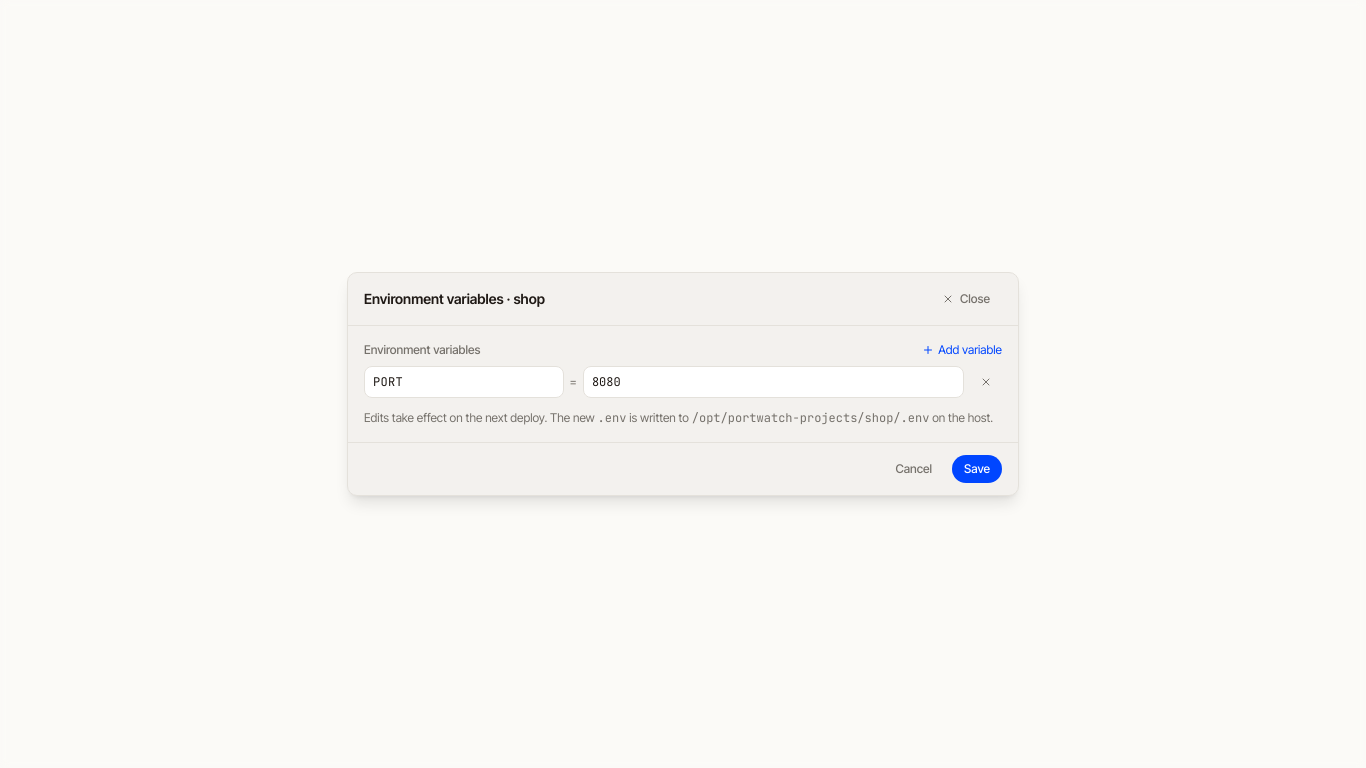
Test: EditEnvModal › locks the form while saving
Step 1. Click the button "Save" → (977, 469), box [952,455,1002,483]
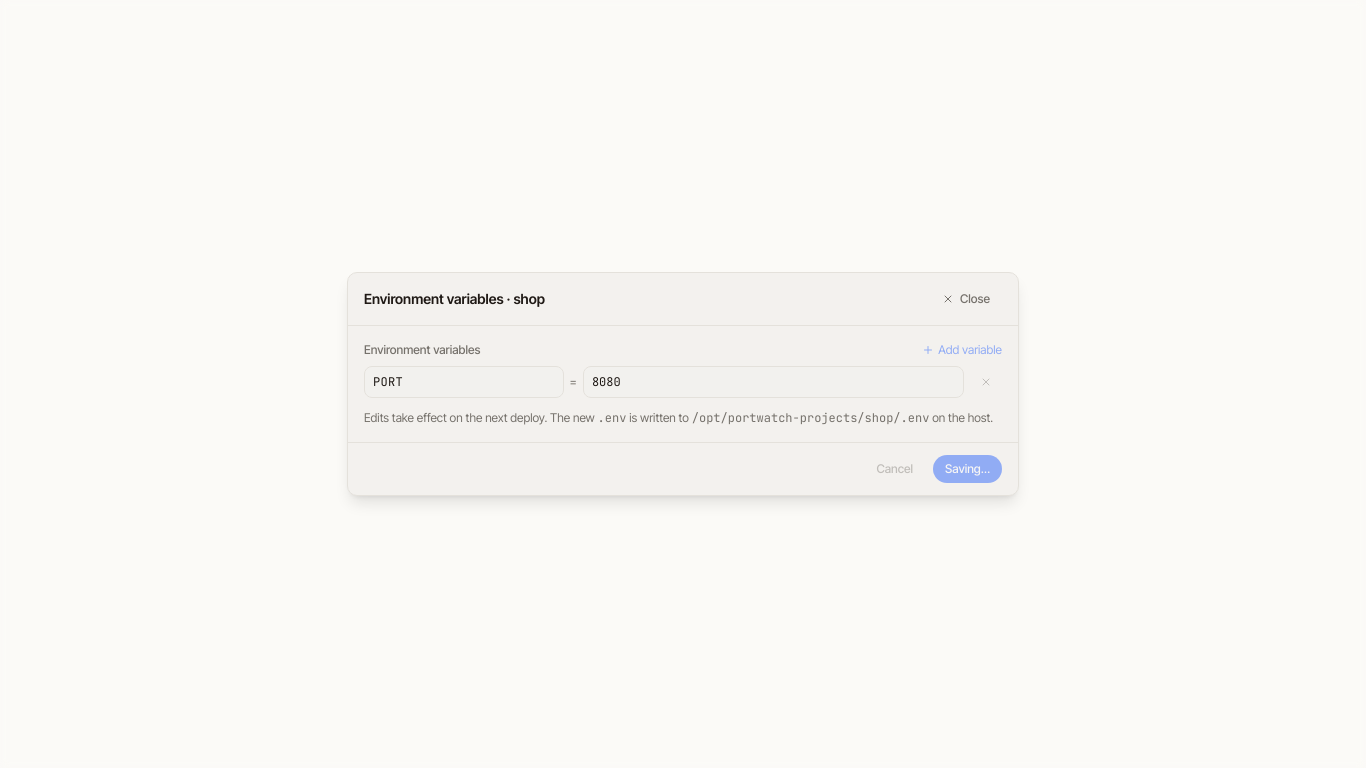
expect the 1st field with placeholder "KEY" is disabled: met, box [364,366,564,398]
expect the button "Saving…" is disabled: met, box [933,455,1002,483]
expect the button "Cancel" is disabled: met, box [864,455,925,483]
